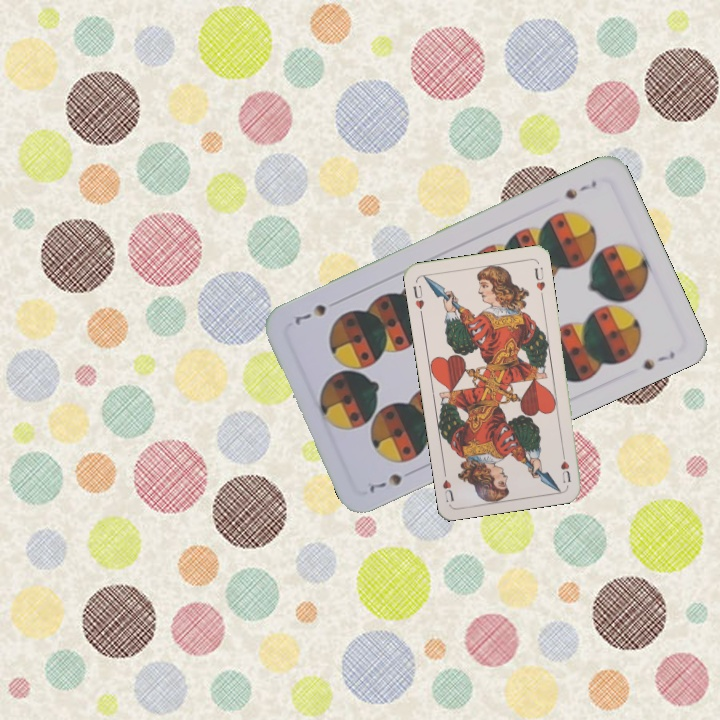HU: (556, 446, 573, 485), (409, 281, 427, 312)
S7: (363, 469, 405, 496), (560, 176, 599, 202)
